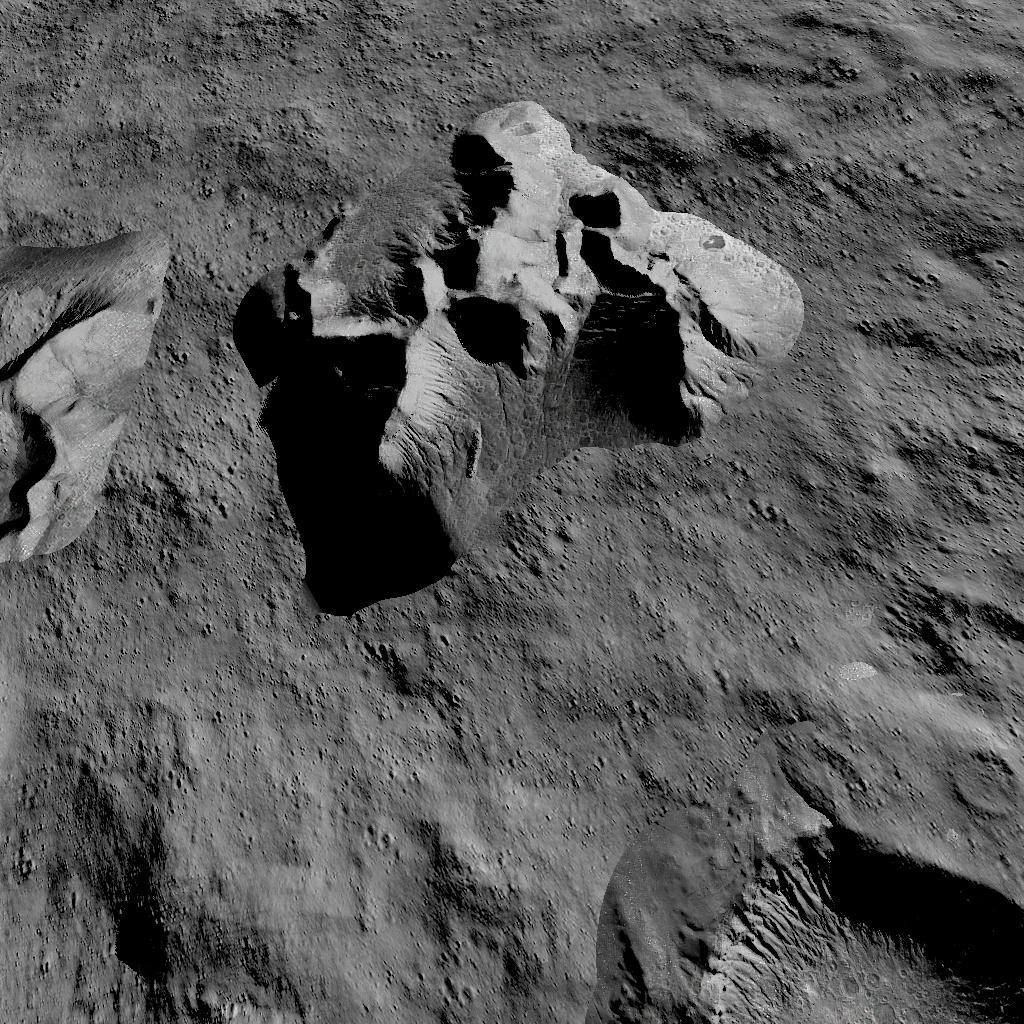Boulders: (212, 80, 801, 608), (4, 198, 168, 572)
Crater: (587, 774, 1024, 1024), (902, 561, 1022, 722), (102, 880, 188, 982)
Plan surface: (218, 628, 568, 1024), (829, 13, 1024, 533), (2, 592, 202, 840), (584, 627, 873, 756), (5, 0, 198, 179)
